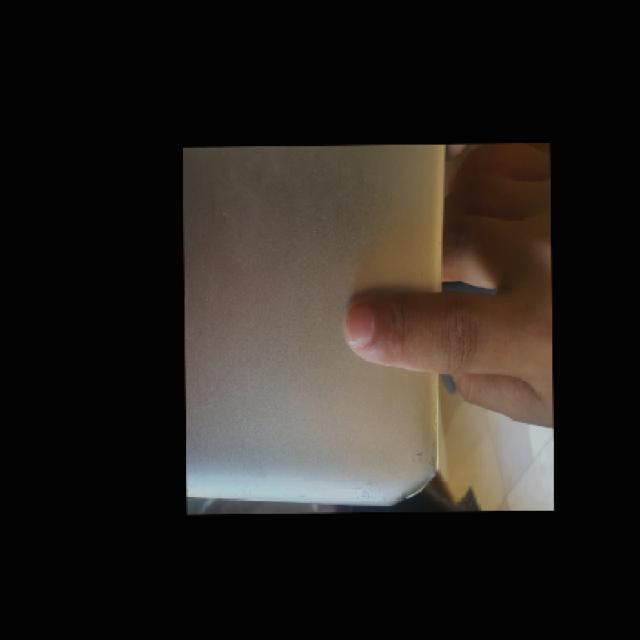Nail: (345, 306, 374, 349)
